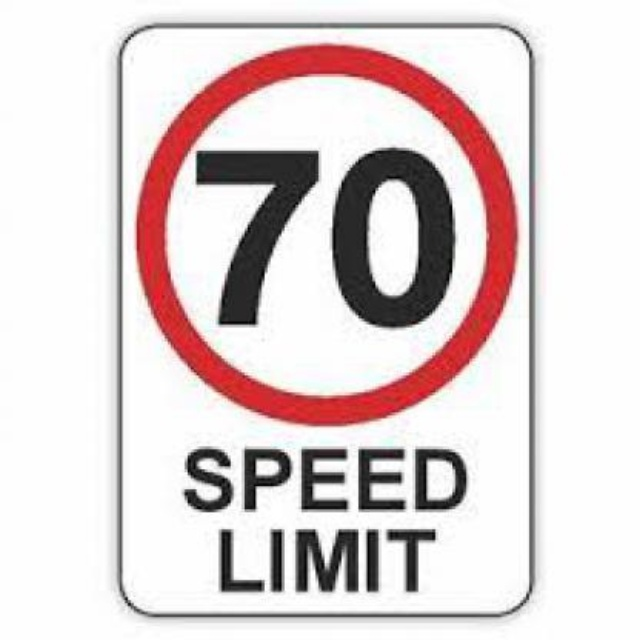Tốc độ tối đa cho phép 70km/h: (144, 46, 521, 429)
